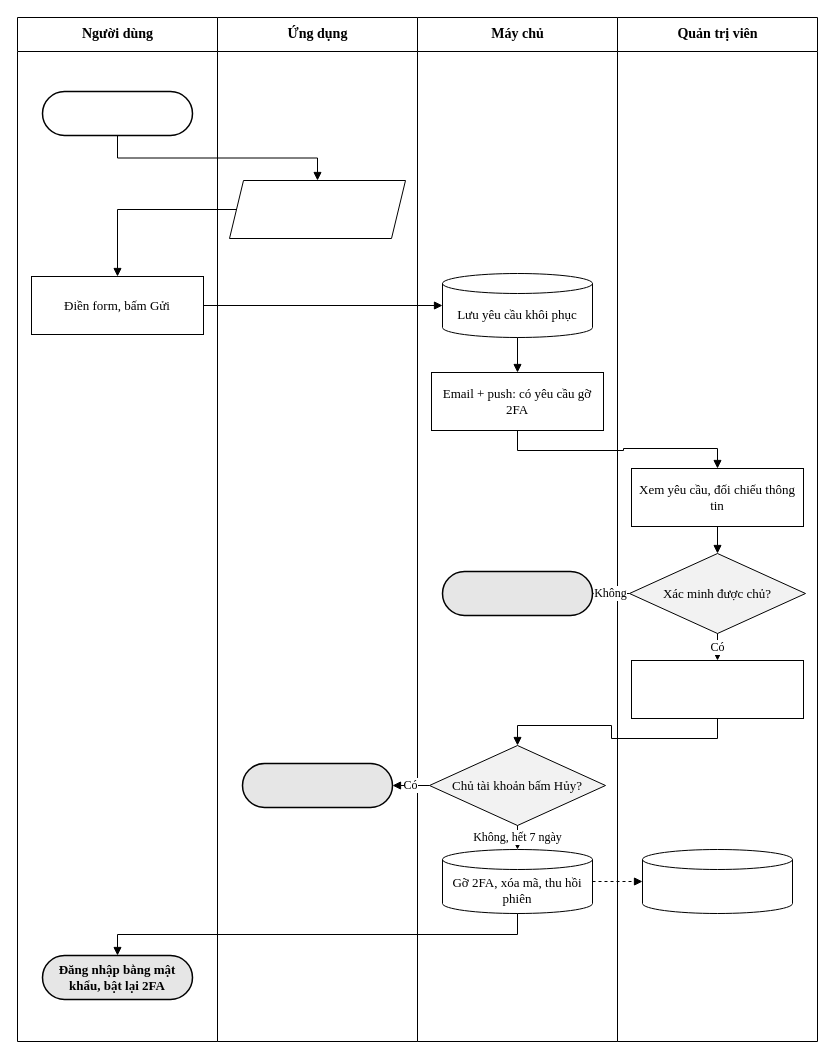
Image size: 835x1059. Some labels were removed from this diagram. Each missing label, with the box of its shape:
Duyệt, bắt đầu chờ 7 ngày: (630, 660, 804, 718)
Form: email tài khoản, mô tả, liên hệ: (228, 180, 406, 238)
Ghi nhật ký quản trị (C3): (642, 848, 792, 914)
Giữ nguyên 2FA, đóng yêu cầu: (241, 762, 393, 808)
Mất mọi cách xác minh: (41, 90, 193, 136)
Từ chối, gửi email lý do: (441, 570, 593, 616)
